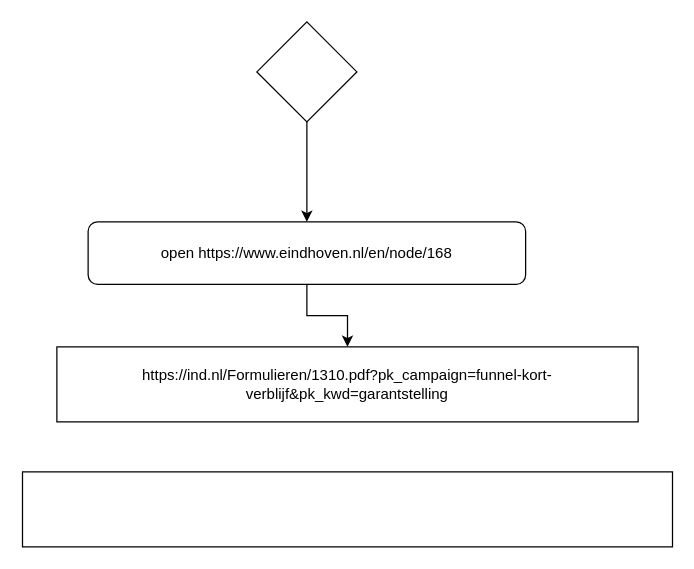
Image size: 694x569. Some labels were removed from this diagram. Here are the shapes that lost their labels. From the top down, the box of each, then its label:
(256, 21, 357, 122): New Invitaion
(21, 471, 672, 547): make an appoitnment https://afspraak.eindhoven.nl/qmaticwebbooking/index.html#/
